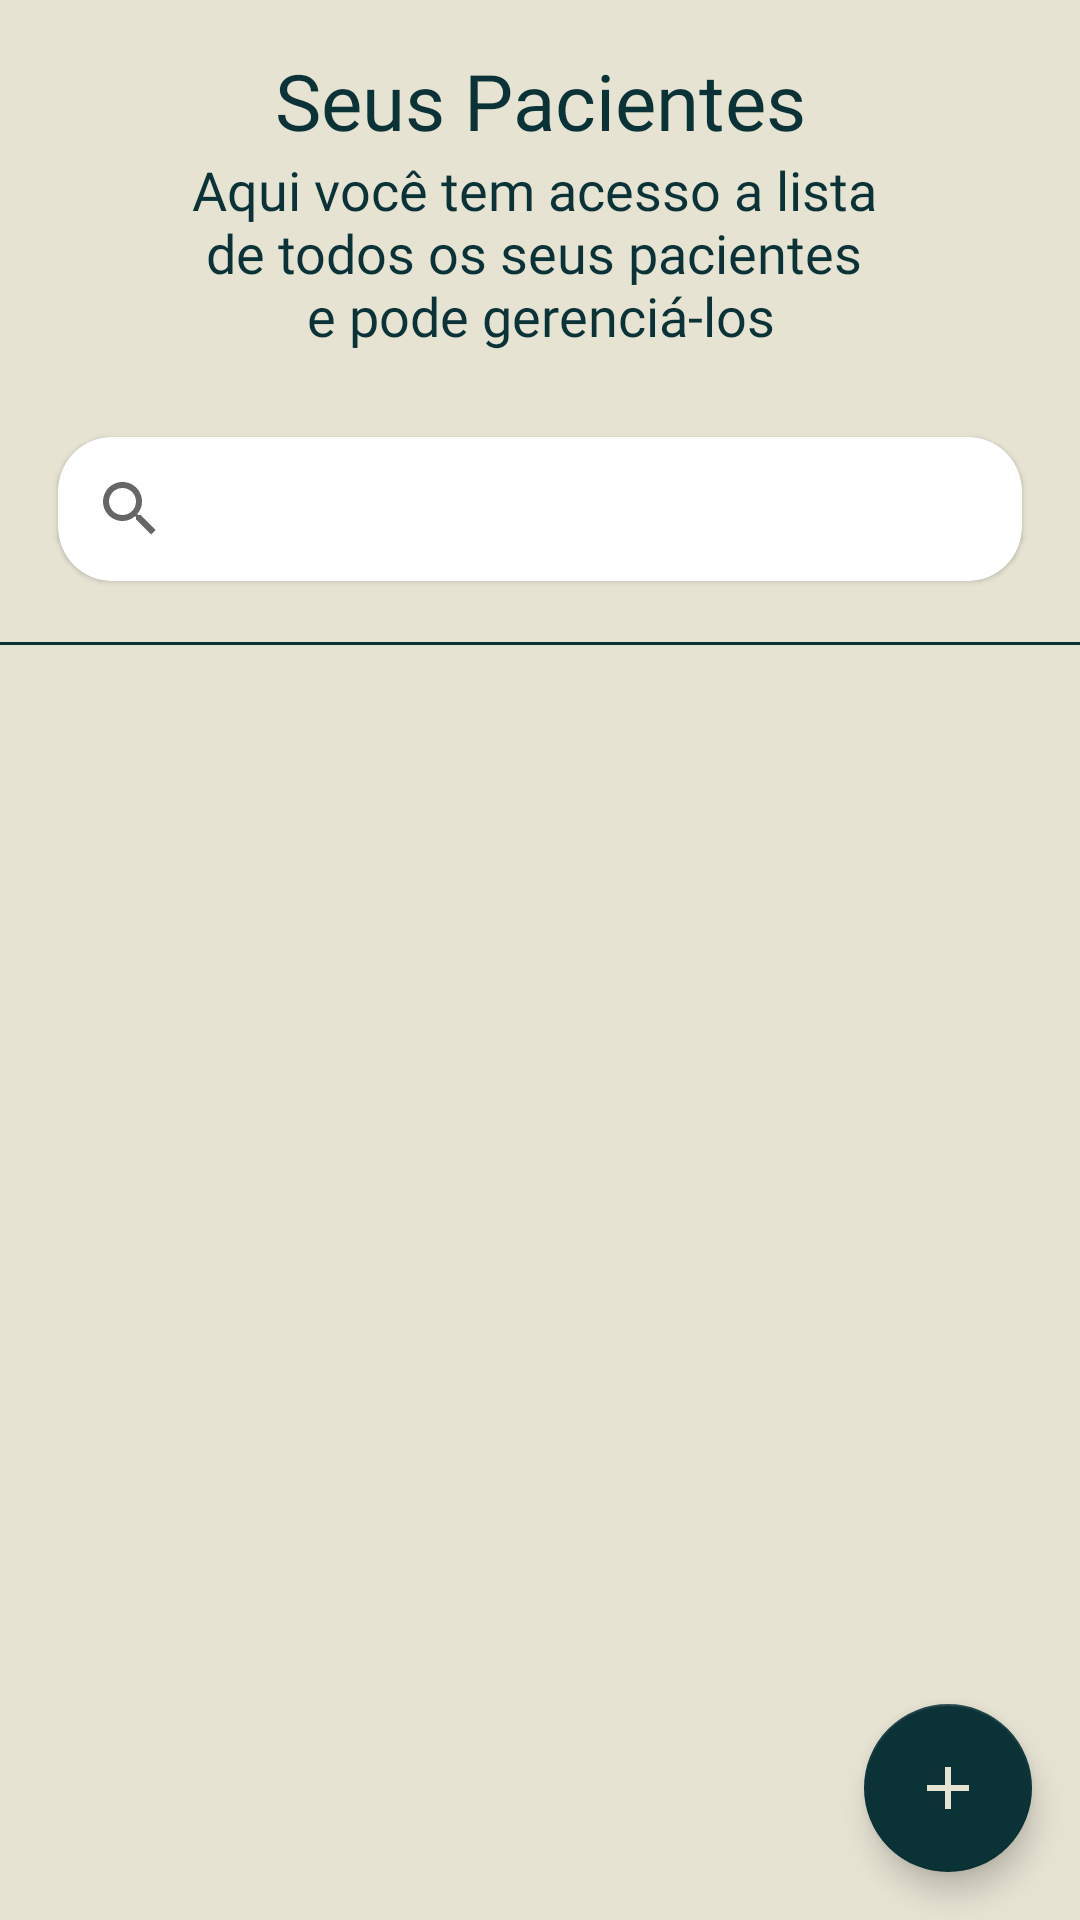

Where to tap for icons on this 1080*1920 app screen, as (x,y):
Adiciona novo paciente: (948,1788)
